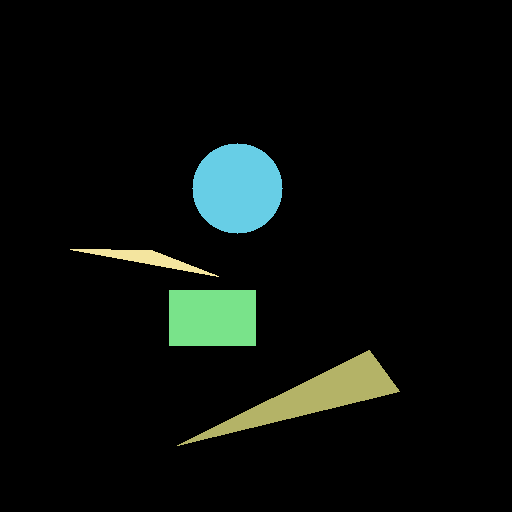circle: (192, 143, 282, 233)
rectangle: (169, 290, 255, 345)
triangle: (177, 350, 399, 445), (70, 249, 218, 276)
